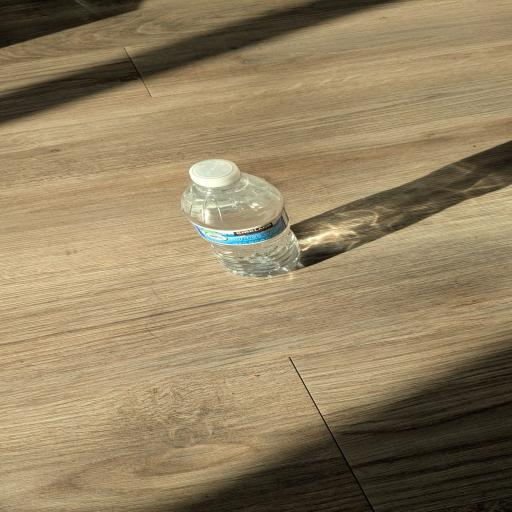waterbottle: (182, 160, 299, 277)
